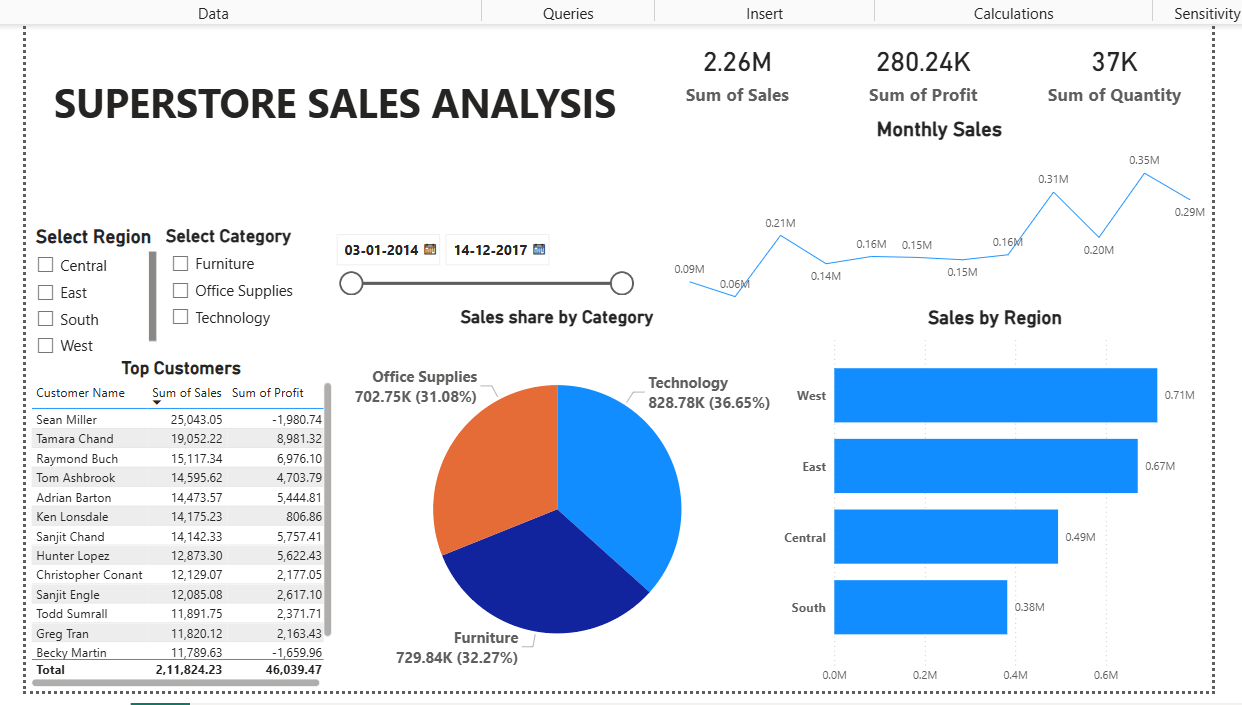

This screenshot's page, from the dashboard's own definition file:
{"tool":"powerbi","page":{"name":"Sales Analysis","canvas":[1280,720],"ordinal":0},"visuals":[{"type":"card","fields":{"Values":["Sum(Sample - Superstore.Sales)"]},"box":[667.1,0,200.8,100.4],"z":0},{"type":"card","fields":{"Values":["Sum(Sample - Superstore.Profit)"]},"box":[867.9,0,200.8,100.4],"z":1000},{"type":"card","fields":{"Values":["Sum(Sample - Superstore.Quantity)"]},"box":[1068.7,0,212.1,100.4],"z":2000},{"type":"barChart","title":"Sales by Region","fields":{"Category":["Sample - Superstore.Region"],"Y":["Sum(Sample - Superstore.Sales)"]},"box":[811.2,304.4,469.6,416.1],"z":3000},{"type":"lineChart","title":"Monthly Sales","fields":{"Category":["Sample - Superstore.Order Date.Variation.Date Hierarchy.Month"],"Y":["Sum(Sample - Superstore.Sales)"]},"box":[691.4,100.4,589.4,204],"z":4000},{"type":"pieChart","title":"Sales share by Category","fields":{"Category":["Sample - Superstore.Category"],"Y":["Sum(Sample - Superstore.Sales)"]},"box":[335.2,304.4,476.1,416.1],"z":5000},{"type":"tableEx","title":"Top Customers","fields":{"Values":["Sample - Superstore.Customer Name","Sum(Sample - Superstore.Sales)","Sum(Sample - Superstore.Profit)"]},"box":[0,359.5,335.2,361.1],"z":6000},{"type":"slicer","title":"Select Region","fields":{"Values":["Sample - Superstore.Region"]},"box":[0,217,145.7,142.5],"z":7000},{"type":"slicer","title":"Select Category","fields":{"Values":["Sample - Superstore.Category"]},"box":[145.7,217,152.2,142.5],"z":8000},{"type":"textbox","box":[0,50.2,667.1,81],"z":9000},{"type":"slicer","fields":{"Values":["Sample - Superstore.Order Date"]},"box":[322.2,217,344.9,76.1],"z":9001}]}

Visuals, with their boxes on the page's 1280x720 design canvas (x1, y1, x2, y2). These are canvas units, not pixel positions in the 1242x705 screenshot, which may show the page scaled, cropped or inside an application window:
card - Sum(Sample - Superstore.Sales): x1=667, y1=0, x2=868, y2=100
card - Sum(Sample - Superstore.Profit): x1=868, y1=0, x2=1069, y2=100
card - Sum(Sample - Superstore.Quantity): x1=1069, y1=0, x2=1281, y2=100
"Sales by Region" barChart: x1=811, y1=304, x2=1281, y2=720
"Monthly Sales" lineChart: x1=691, y1=100, x2=1281, y2=304
"Sales share by Category" pieChart: x1=335, y1=304, x2=811, y2=720
"Top Customers" tableEx: x1=0, y1=360, x2=335, y2=721
"Select Region" slicer: x1=0, y1=217, x2=146, y2=360
"Select Category" slicer: x1=146, y1=217, x2=298, y2=360
textbox: x1=0, y1=50, x2=667, y2=131
slicer - Sample - Superstore.Order Date: x1=322, y1=217, x2=667, y2=293
